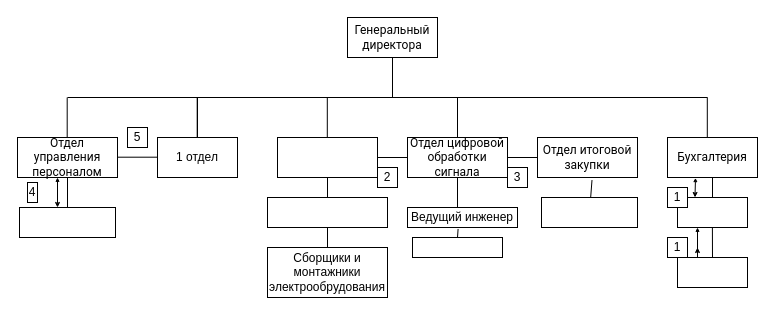
Some shapes in this 775 by 315 pixel diagram are drawn without their labels. The shapes that lost their labels are listed below. From the top down, each one's box as (x1, y1, x2, y2) in pixels, then its label:
(276, 136, 378, 178): Конструкторский отдел
(18, 206, 116, 238): Сотрудник отдела кадров
(266, 196, 388, 228): Главный конструктор
(540, 196, 638, 228): Юрист-консультант
(676, 196, 748, 228): Главный бухгалтер
(412, 236, 502, 258): Инженер
(676, 256, 748, 288): Расчётный бухгалтер
